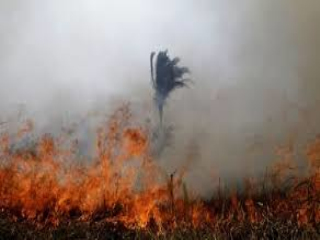fire: (1, 129, 228, 227)
smoke: (146, 48, 297, 191)
